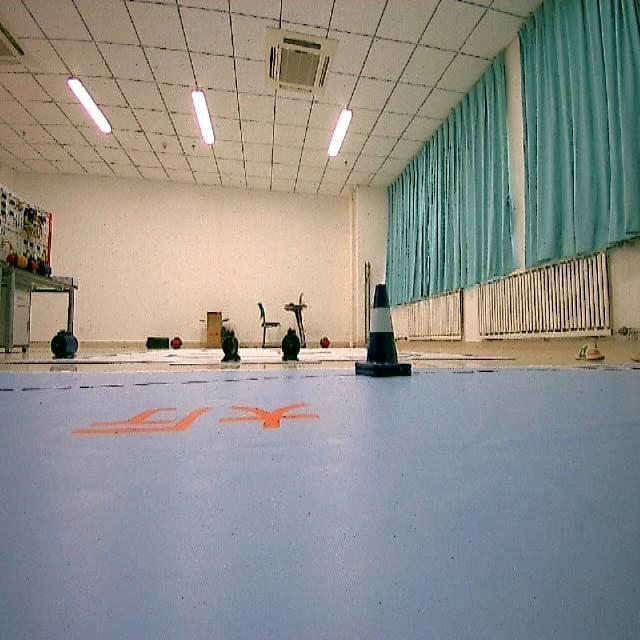obstacle: (350, 284, 426, 394)
